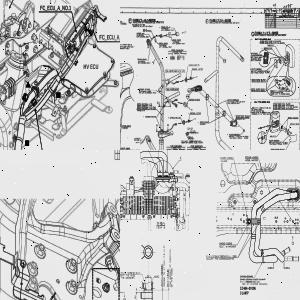PartNumber: (240, 286, 256, 290), (220, 156, 234, 160), (219, 242, 232, 245), (139, 88, 150, 91), (273, 104, 282, 107), (200, 121, 209, 124), (245, 156, 258, 158), (137, 104, 145, 107), (252, 68, 260, 71), (188, 64, 199, 66), (192, 68, 203, 70), (189, 98, 200, 100), (190, 112, 201, 114), (172, 39, 182, 41), (170, 116, 180, 118), (121, 148, 130, 150), (122, 125, 131, 127), (137, 108, 146, 110), (137, 106, 146, 108), (137, 103, 146, 105), (159, 42, 168, 44), (161, 26, 170, 28), (260, 42, 269, 44), (260, 40, 269, 42), (251, 90, 260, 92), (251, 88, 260, 90), (273, 106, 282, 108), (273, 103, 282, 105), (290, 123, 299, 125), (270, 148, 279, 150), (138, 58, 146, 60), (252, 80, 260, 82), (252, 79, 260, 81), (288, 117, 296, 119), (236, 115, 244, 117), (273, 108, 282, 109), (269, 140, 278, 141), (236, 117, 245, 118), (229, 134, 238, 135)
